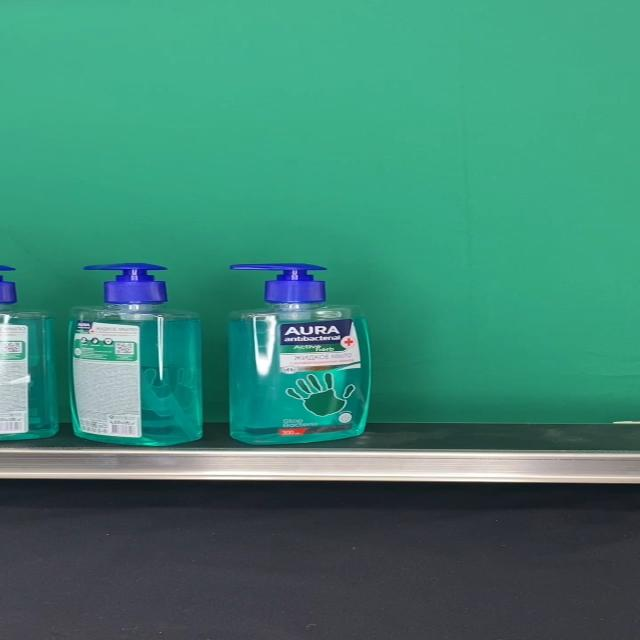Bottle: (228, 263, 370, 443), (69, 262, 202, 444)
Cap: (231, 263, 327, 305), (82, 262, 167, 304)
